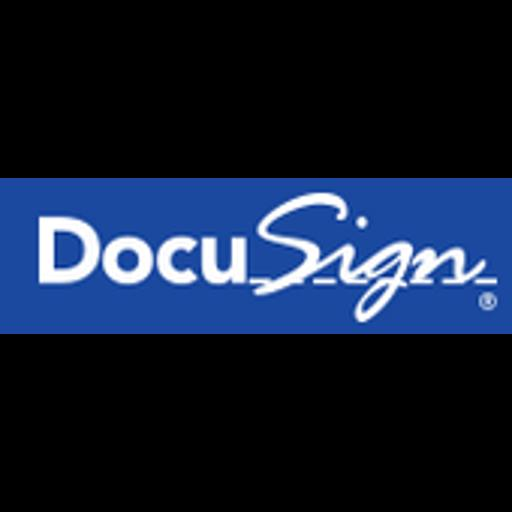DocuSign: (0, 178, 512, 334)
